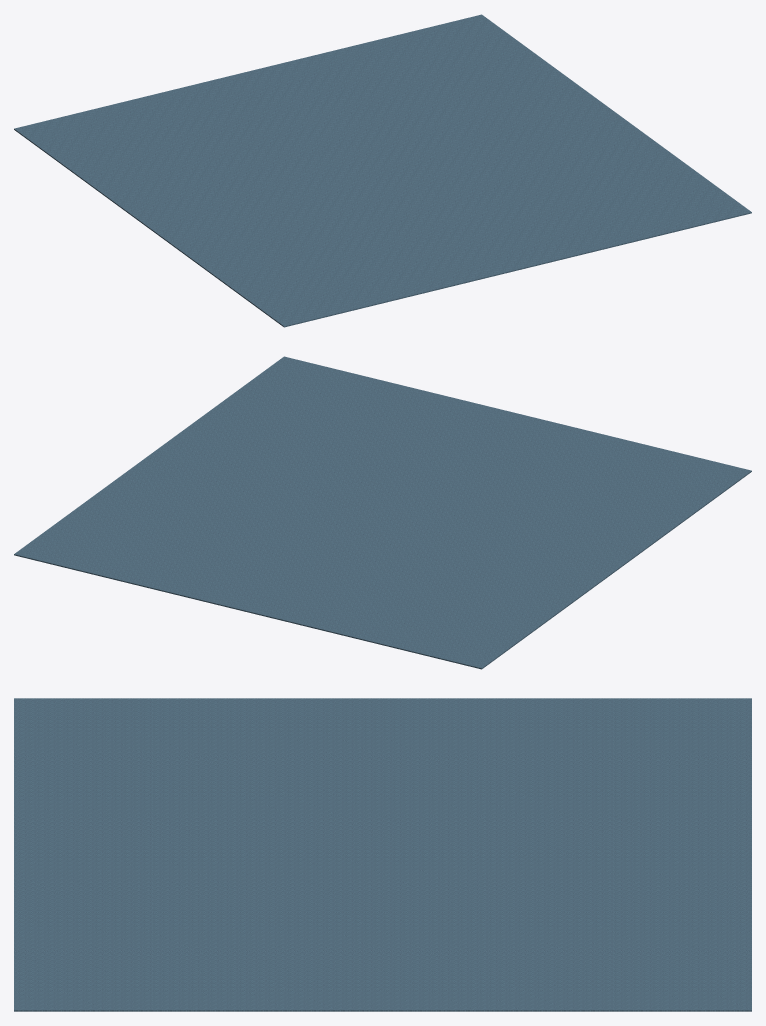
File: water.obj
3 views of the same model, one above another, from view 1: azimuth 30°, elevation 25°; view 2: azimuth 150°, elevation 25°; view 3: azimuth 270°, elevation 25° (orthographic). The views are drawn at different scales.
Visible parts, largest first — view 1: water; view 2: water; view 3: water.
Boxes of the visible parts, x1=… form: water: x1=14, y1=14, x2=751, y2=327; water: x1=14, y1=356, x2=751, y2=669; water: x1=14, y1=698, x2=751, y2=1011.
Bounding box in the file's own units: 796 × 1.84 × 796.
Materials: 1 (1 with a texture image).
